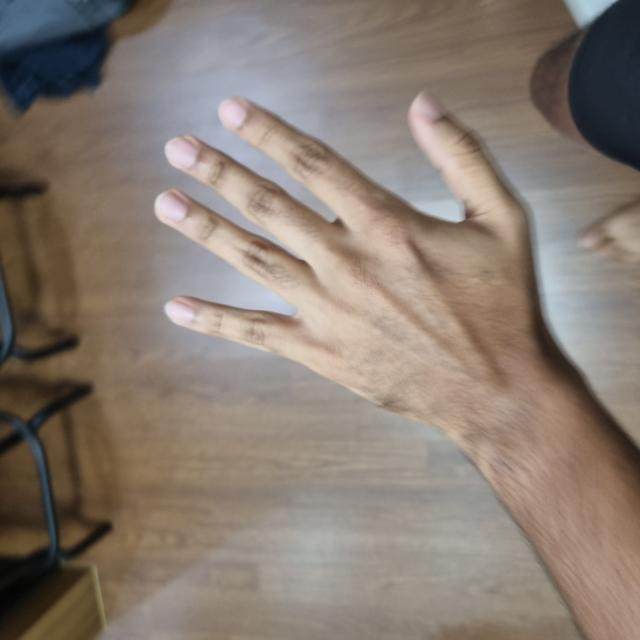Paper: (205, 161, 539, 543)
